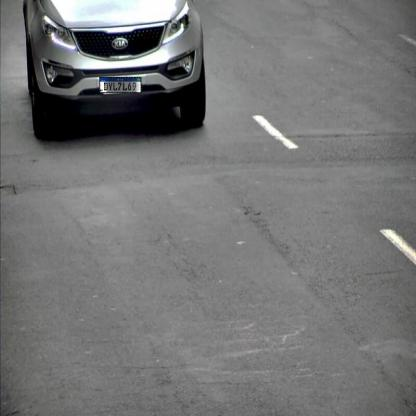PlacaM: (100, 77, 142, 93)
